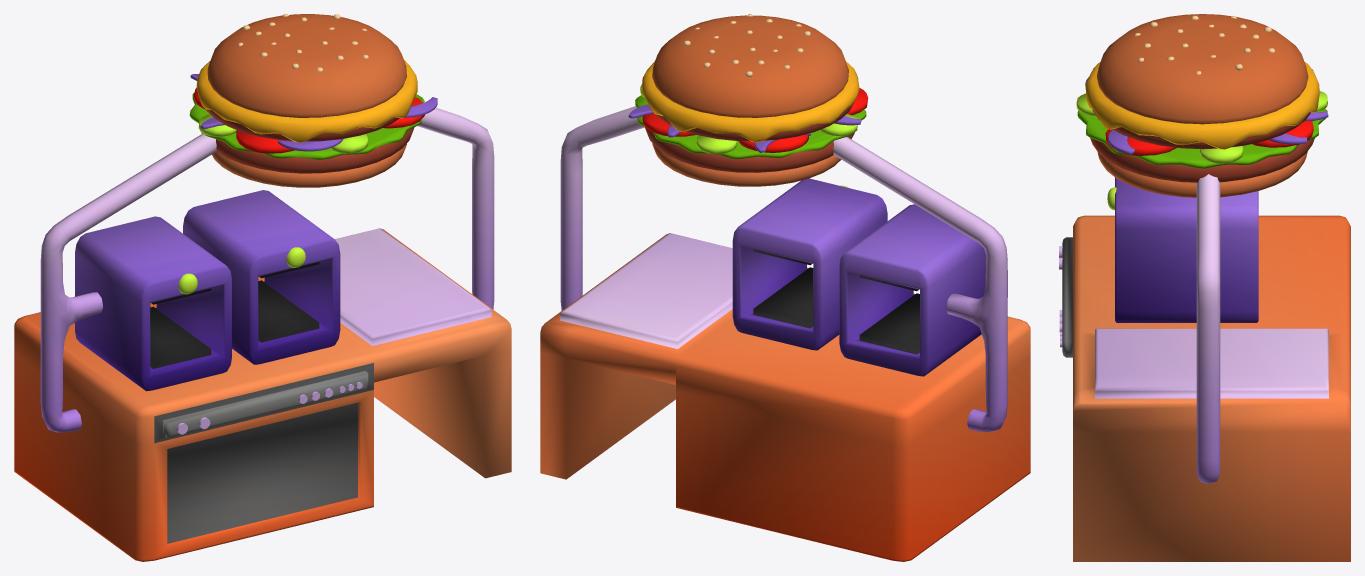
Rendered from Burger-Machine.fbx.
3 views of the same model, side by side, from view 1: azimuth 30°, elevation 25°; view 2: azimuth 150°, elevation 25°; view 3: azimuth 270°, elevation 25° (orthographic). The views are drawn at different scales.
Parts seen in each view (by area): view 1: Burger-Machine; view 2: Burger-Machine; view 3: Burger-Machine.
Boxes of the visible parts, <box> form: Burger-Machine: <box>14,14,511,561</box>; Burger-Machine: <box>540,14,1030,561</box>; Burger-Machine: <box>1059,14,1350,561</box>.
Size of the model in its own units: 1115 by 1006 by 591.
